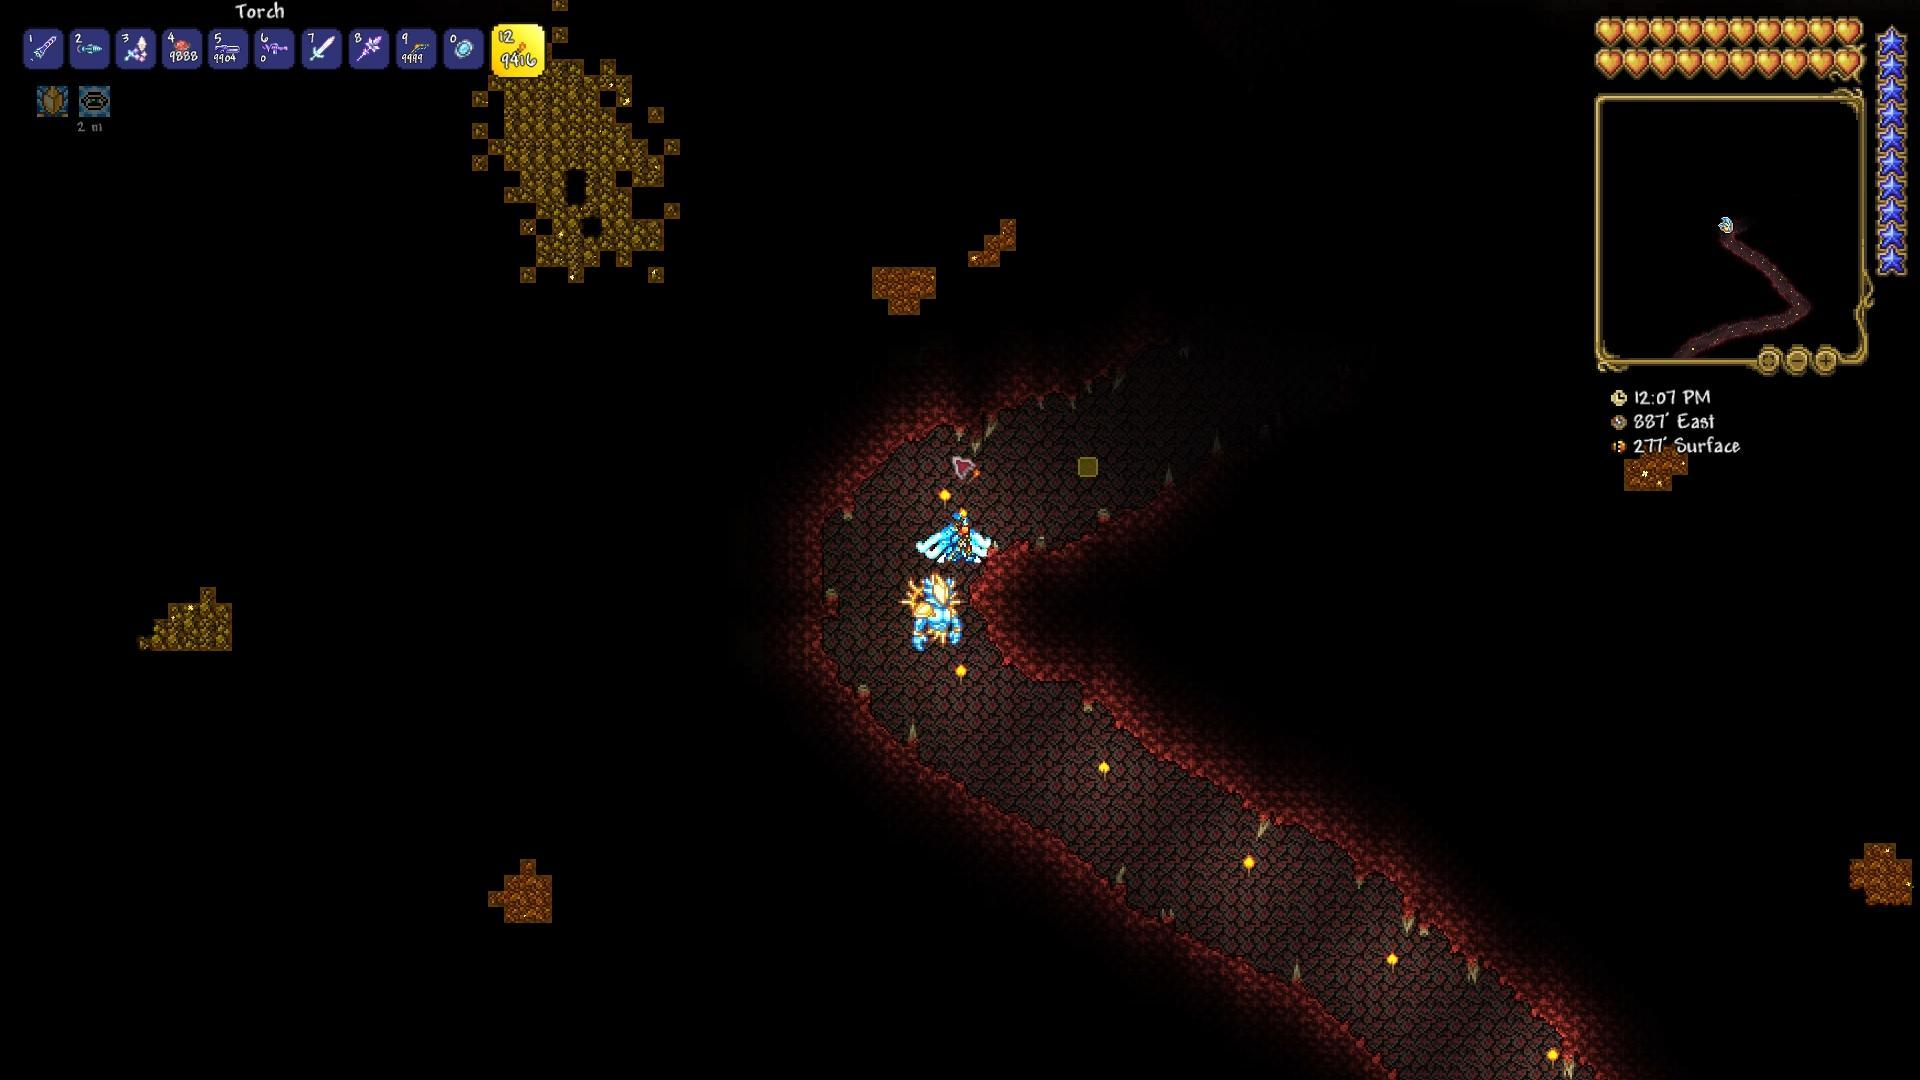crimstone: (753, 637, 823, 675), (971, 812, 1019, 857), (771, 553, 823, 593), (1040, 866, 1093, 905), (899, 762, 940, 796), (836, 709, 877, 742), (882, 407, 931, 431), (836, 447, 885, 463), (814, 488, 855, 506)
